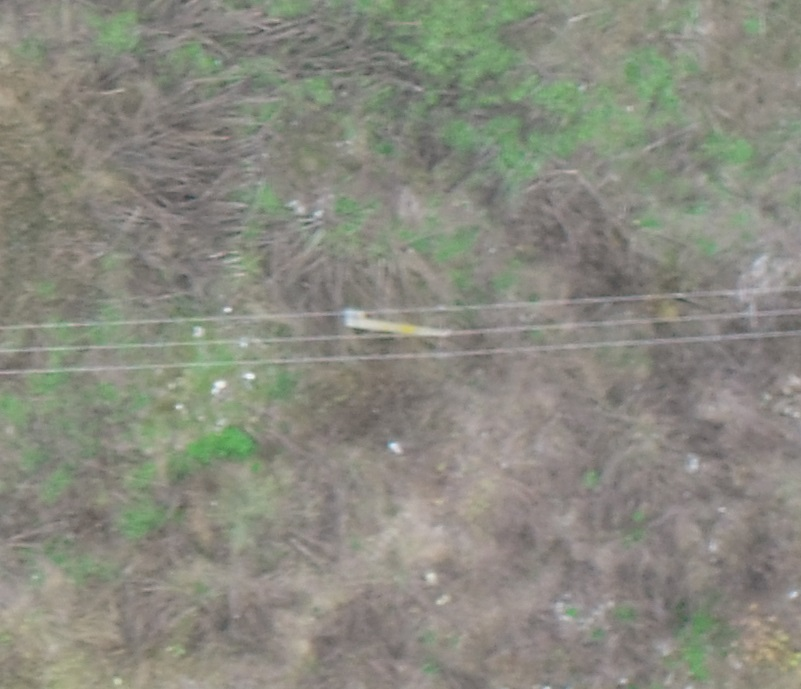opora: (343, 302, 454, 350)
